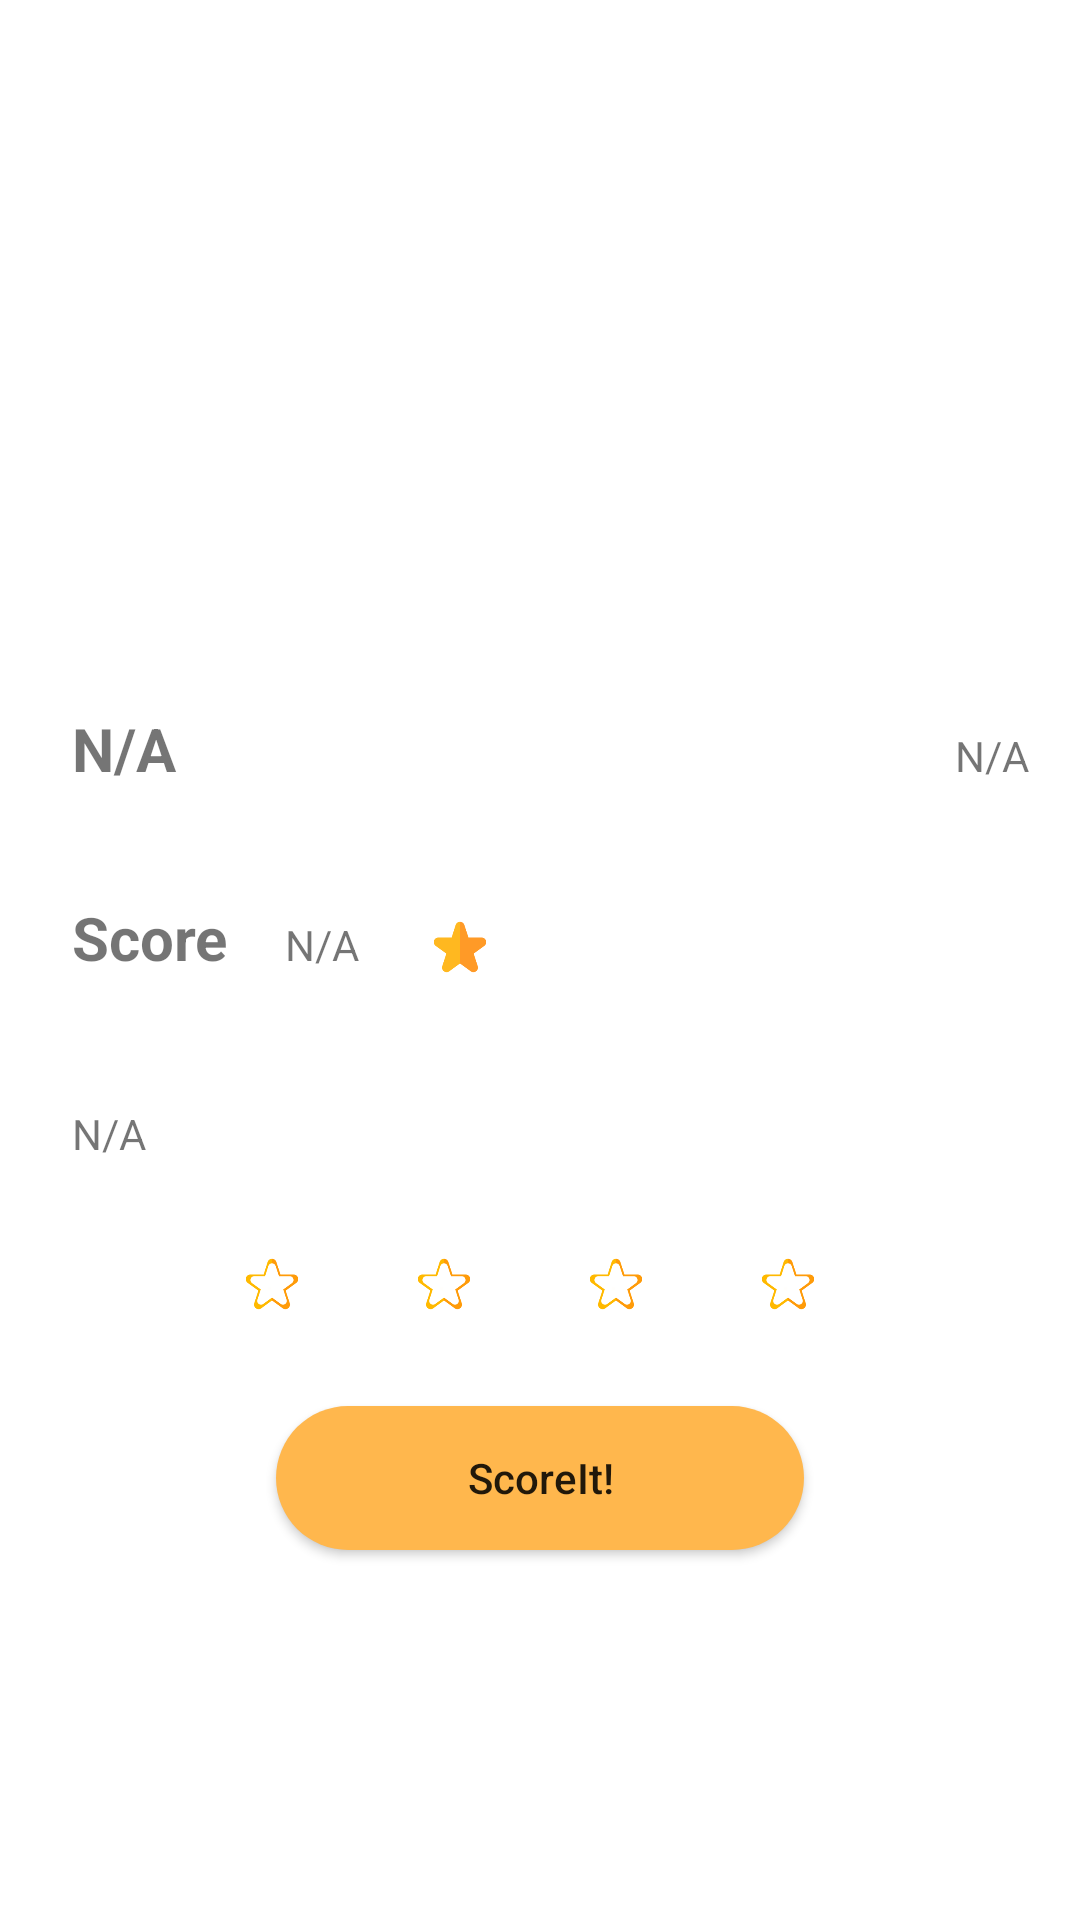

Icons on this 1080w x 1920h Android screen, each with its box as (x1, y1, x2, y2):
star: (434, 921, 486, 973)
star vacia: (246, 1258, 298, 1310), (418, 1258, 470, 1310), (590, 1258, 642, 1310), (762, 1258, 814, 1310)
